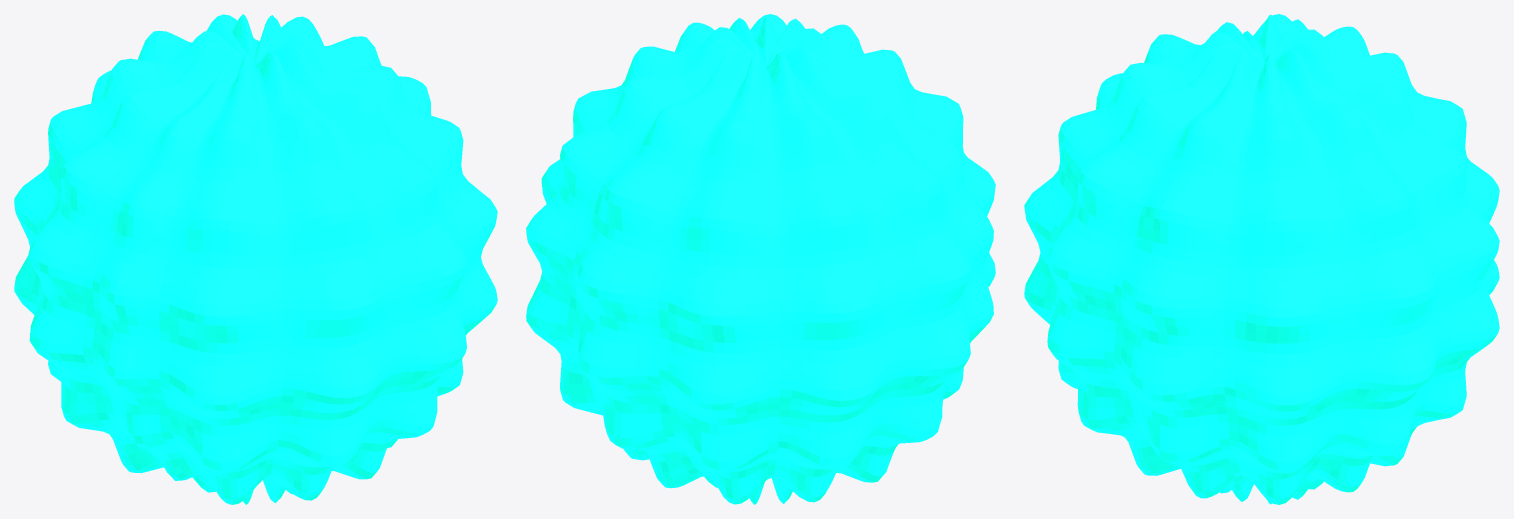
Rendered from testcreature.fbx.
The picture shows the model from 3 angles, left to right: view 1: azimuth 30°, elevation 25°; view 2: azimuth 150°, elevation 25°; view 3: azimuth 270°, elevation 25°; orthographic projection.
Parts seen in each view (by area): view 1: Sphere.001; view 2: Sphere.001; view 3: Sphere.001.
Boxes of the visible parts, x1,y1,x2,y2 form: Sphere.001: [14, 14, 497, 504]; Sphere.001: [526, 14, 995, 504]; Sphere.001: [1024, 14, 1499, 504].
Size of the model in its own units: 0.1248 by 0.1279 by 0.1228.
